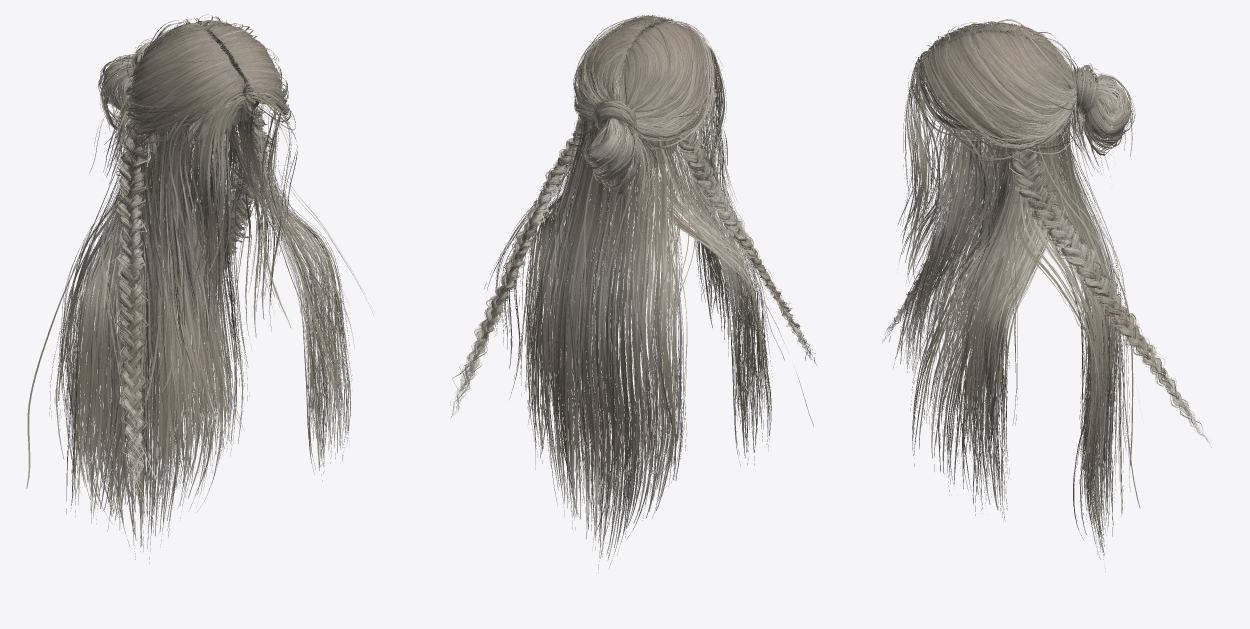
File: dint_hair_28.glb
The picture shows the model from 3 angles, left to right: view 1: azimuth 30°, elevation 25°; view 2: azimuth 150°, elevation 25°; view 3: azimuth 270°, elevation 25°; orthographic projection. The views are drawn at different scales.
Visible parts, largest first — view 1: 0backLong_0backLong, 0leftLong2_0leftLong2, 0leftLong1_0leftLong1, 0FL_0FL, 0rightLong1_0rightLong1, 0topL1_0topL1, 0BrL2_0BrL2, 0BrL1_0BrL1, 0rightLong2_0rightLong2, 0FR_0FR, Hl01_Hl01, 0topL2_0topL2 (+10 smaller); view 2: 0backLong_0backLong, 0leftLong2_0leftLong2, 0topL1_0topL1, 0lightTop1_0lightTop1, 0lightBackR_0lightBackR, 0lightBackL_0lightBackL, 0rightLong1_0rightLong1, 0topL2_0topL2, 0BrR2_0BrR2, 0BrR1_0BrR1, 0BrL2_0BrL2, 0leftLong1_0leftLong1 (+9 smaller); view 3: 0rightLong1_0rightLong1, 0topL2_0topL2, 0backLong_0backLong, 0rightLong2_0rightLong2, 0leftLong1_0leftLong1, 0BrR1_0BrR1, 0BrR2_0BrR2, 0leftLong2_0leftLong2, 0lightTop2_0lightTop2, 0FR_0FR, 0FL_0FL, 0lightBackR_0lightBackR (+8 smaller).
Part boxes in pixels (bbox=[...]): 0backLong_0backLong: bbox=[49, 98, 249, 563]; 0leftLong2_0leftLong2: bbox=[64, 87, 180, 531]; 0leftLong1_0leftLong1: bbox=[144, 94, 244, 502]; 0FL_0FL: bbox=[142, 83, 246, 408]; 0rightLong1_0rightLong1: bbox=[203, 41, 352, 481]; 0topL1_0topL1: bbox=[125, 23, 243, 145]; 0BrL2_0BrL2: bbox=[109, 112, 152, 503]; 0BrL1_0BrL1: bbox=[118, 112, 148, 484]; 0rightLong2_0rightLong2: bbox=[245, 84, 351, 455]; 0FR_0FR: bbox=[248, 90, 354, 348]; Hl01_Hl01: bbox=[139, 26, 276, 156]; 0topL2_0topL2: bbox=[189, 20, 289, 116]; 0backLong_0backLong: bbox=[526, 90, 687, 573]; 0leftLong2_0leftLong2: bbox=[642, 85, 772, 465]; 0topL1_0topL1: bbox=[615, 21, 715, 142]; 0lightTop1_0lightTop1: bbox=[574, 15, 716, 239]; 0lightBackR_0lightBackR: bbox=[483, 115, 603, 514]; 0lightBackL_0lightBackL: bbox=[595, 136, 813, 529]; 0rightLong1_0rightLong1: bbox=[519, 122, 607, 410]; 0topL2_0topL2: bbox=[573, 16, 678, 123]; 0BrR2_0BrR2: bbox=[450, 118, 590, 418]; 0BrR1_0BrR1: bbox=[453, 117, 587, 401]; 0BrL2_0BrL2: bbox=[673, 121, 817, 366]; 0leftLong1_0leftLong1: bbox=[695, 63, 761, 389]; 0rightLong1_0rightLong1: bbox=[912, 96, 1064, 522]; 0topL2_0topL2: bbox=[919, 29, 1081, 151]; 0backLong_0backLong: bbox=[1032, 83, 1124, 571]; 0rightLong2_0rightLong2: bbox=[910, 112, 1101, 466]; 0leftLong1_0leftLong1: bbox=[892, 102, 991, 383]; 0BrR1_0BrR1: bbox=[1011, 132, 1200, 430]; 0BrR2_0BrR2: bbox=[1006, 145, 1211, 447]; 0leftLong2_0leftLong2: bbox=[912, 128, 1063, 422]; 0lightTop2_0lightTop2: bbox=[912, 29, 1092, 163]; 0FR_0FR: bbox=[916, 62, 1020, 385]; 0FL_0FL: bbox=[897, 44, 967, 294]; 0lightBackR_0lightBackR: bbox=[1005, 129, 1140, 513].
Size of the model in its own units: 0.5241 by 0.7968 by 0.4582.
23 materials, 23 textured.
